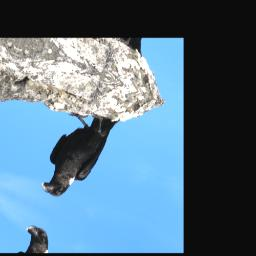Crow: (37, 96, 121, 215)
